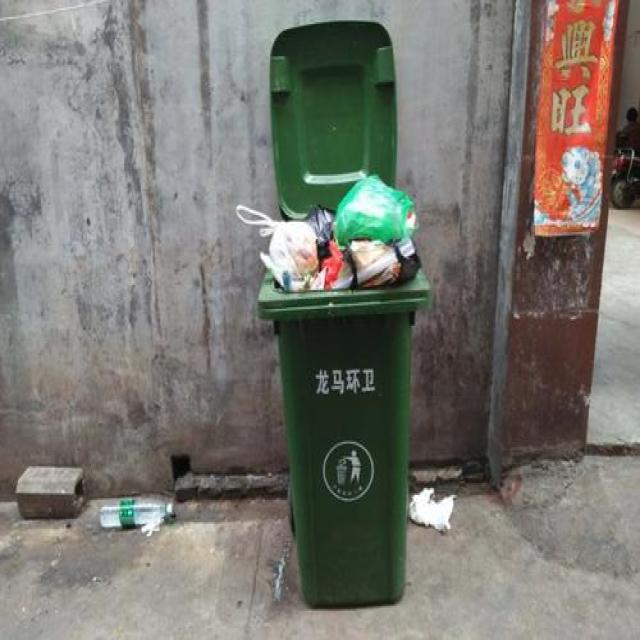garbage: (99, 495, 174, 529), (408, 483, 457, 532)
overflow: (233, 167, 427, 608)
